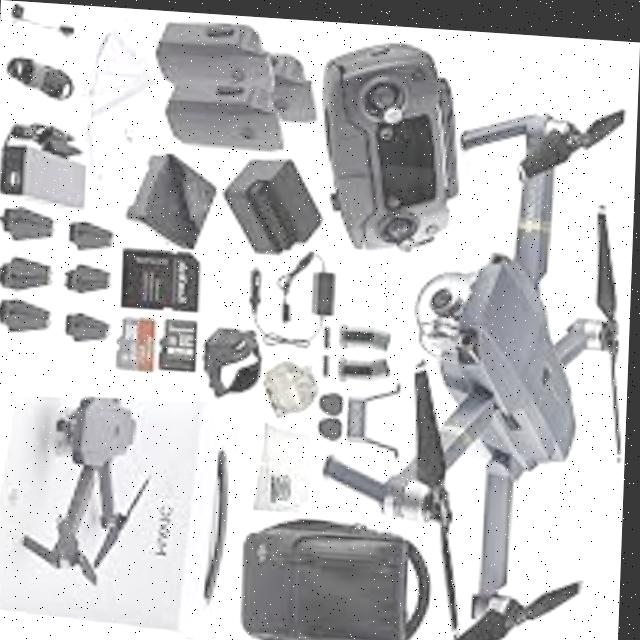drone: (311, 17, 640, 640)
